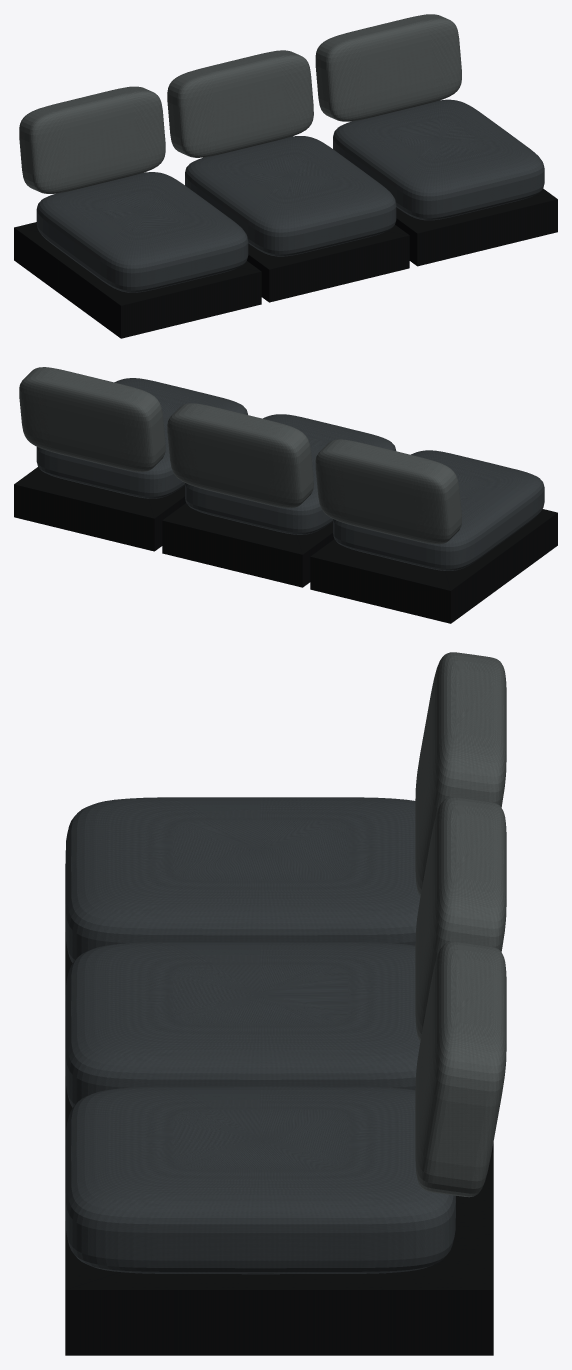
Rendered from sofa-modular.glb.
3 renders of one model, top to bottom at view 1: azimuth 30°, elevation 25°; view 2: azimuth 150°, elevation 25°; view 3: azimuth 270°, elevation 25°, orthographic. The views are drawn at different scales.
Visible parts, largest first — view 1: seat_1, seat_3, seat_2, back_3, back_2, back_1, base_1, base_3, base_2; view 2: base_1, back_3, back_1, back_2, seat_1, base_3, base_2, seat_3, seat_2; view 3: seat_3, seat_2, seat_1, base_3, back_3, back_1, back_2.
Boxes of the visible parts, x1=… form: seat_1: x1=36, y1=172, x2=248, y2=292; seat_3: x1=333, y1=99, x2=544, y2=220; seat_2: x1=185, y1=136, x2=396, y2=256; back_3: x1=315, y1=14, x2=461, y2=121; back_2: x1=167, y1=50, x2=313, y2=157; back_1: x1=19, y1=86, x2=165, y2=193; base_1: x1=14, y1=222, x2=261, y2=338; base_3: x1=395, y1=188, x2=557, y2=266; base_2: x1=247, y1=225, x2=409, y2=302; base_1: x1=310, y1=509, x2=557, y2=623; back_3: x1=19, y1=367, x2=165, y2=471; back_1: x1=315, y1=439, x2=461, y2=544; back_2: x1=167, y1=403, x2=313, y2=508; seat_1: x1=333, y1=450, x2=544, y2=570; base_3: x1=14, y1=467, x2=186, y2=551; base_2: x1=162, y1=503, x2=334, y2=587; seat_3: x1=36, y1=378, x2=247, y2=498; seat_2: x1=185, y1=414, x2=396, y2=534; seat_3: x1=65, y1=1086, x2=455, y2=1274; seat_2: x1=65, y1=941, x2=420, y2=1107; seat_1: x1=65, y1=797, x2=420, y2=962; base_3: x1=65, y1=1152, x2=493, y2=1355; back_3: x1=415, y1=941, x2=506, y2=1197; back_1: x1=415, y1=652, x2=506, y2=896; back_2: x1=415, y1=797, x2=506, y2=1041.
Bounding box in the file's own units: 2.4 × 0.78 × 1.05.
3 materials, 3 textured.
